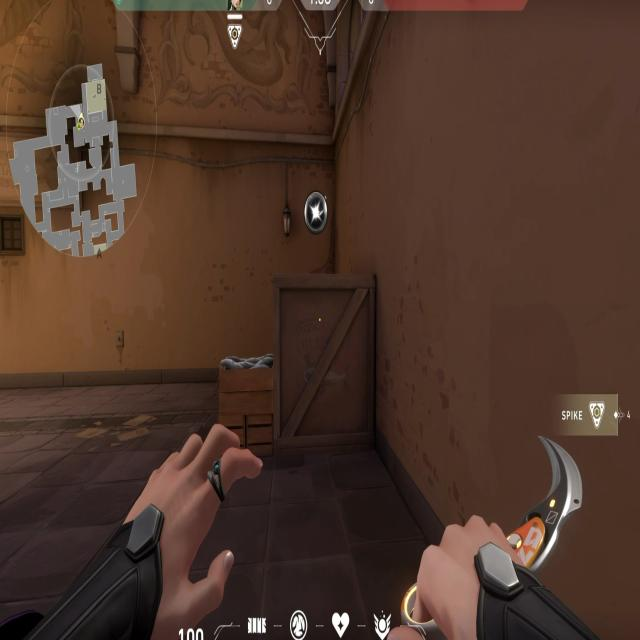B_Main_Wallbang: (271, 188, 396, 412)
